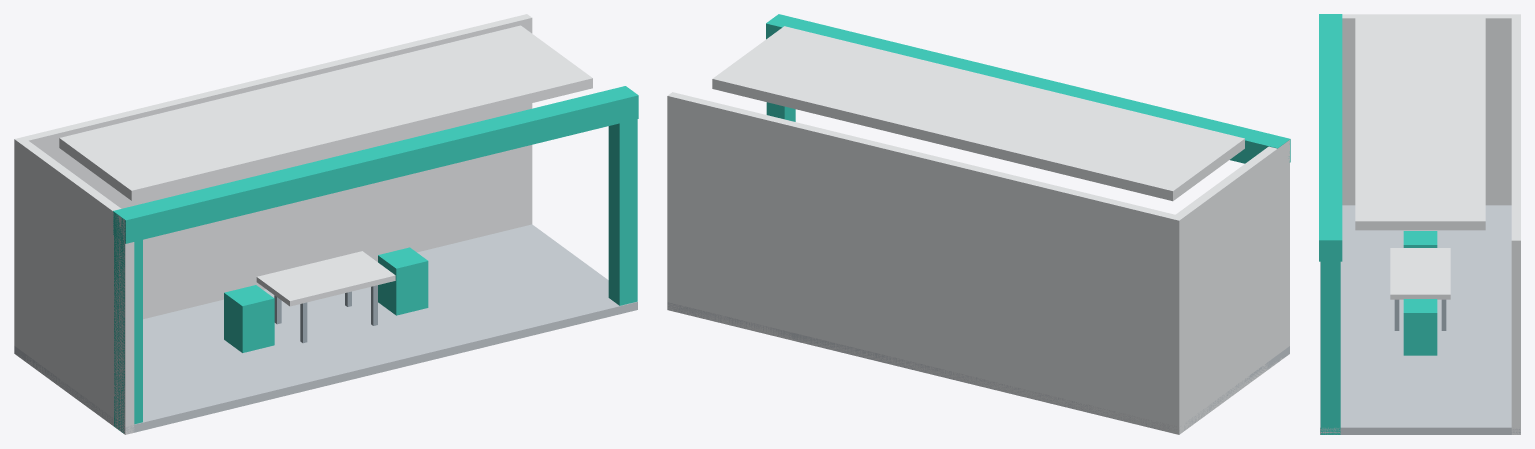
3 views of the same model, side by side, from view 1: azimuth 30°, elevation 25°; view 2: azimuth 150°, elevation 25°; view 3: azimuth 270°, elevation 25° (orthographic). The views are drawn at different scales.
Parts seen in each view (by area): view 1: Exhibition Booth Concept; view 2: Exhibition Booth Concept; view 3: Exhibition Booth Concept.
Part boxes in pixels (left/top/right/bottom): Exhibition Booth Concept: left=14, top=14, right=638, bottom=434; Exhibition Booth Concept: left=667, top=14, right=1290, bottom=434; Exhibition Booth Concept: left=1319, top=14, right=1520, bottom=434.
Size of the model in its own units: 8 by 3.34 by 3.01.
